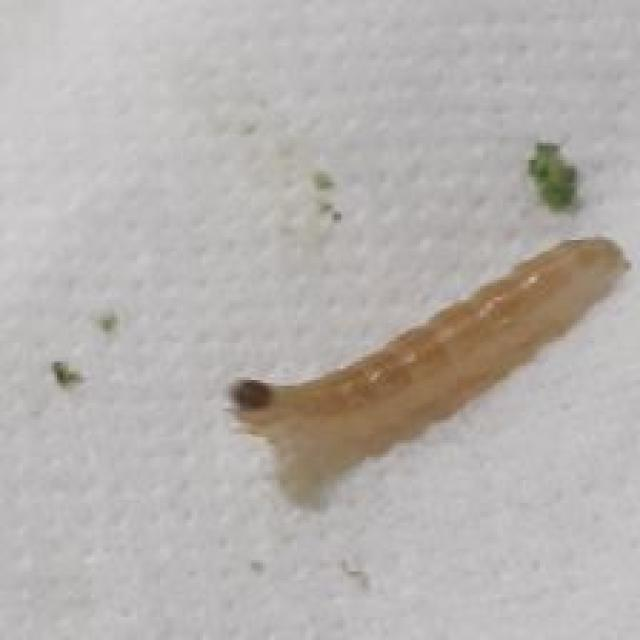white mucus: (187, 210, 640, 486)
